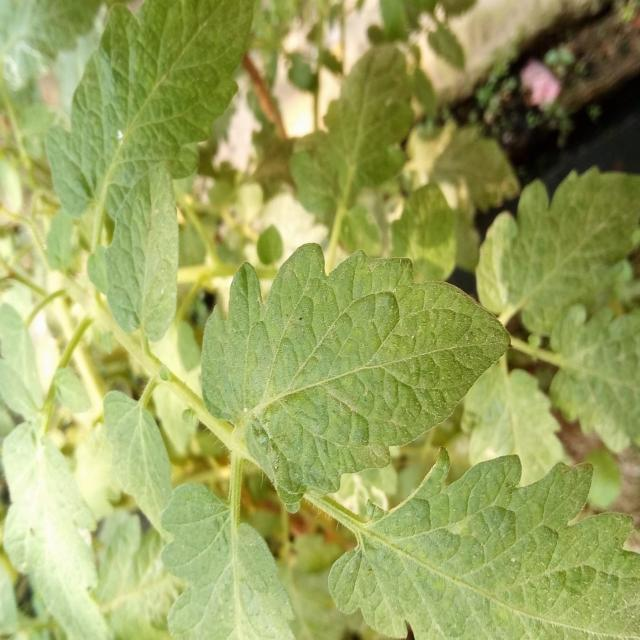Healthy: (151, 162, 524, 531), (20, 0, 276, 256), (329, 452, 640, 639), (104, 163, 179, 341)
